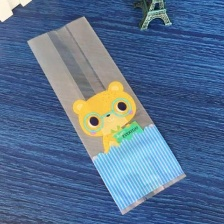snack: (21, 9, 192, 219)
